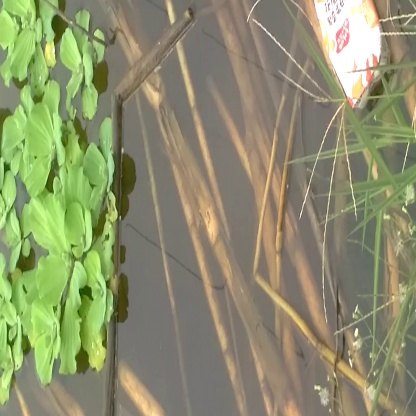milk-box: (305, 2, 399, 111)
